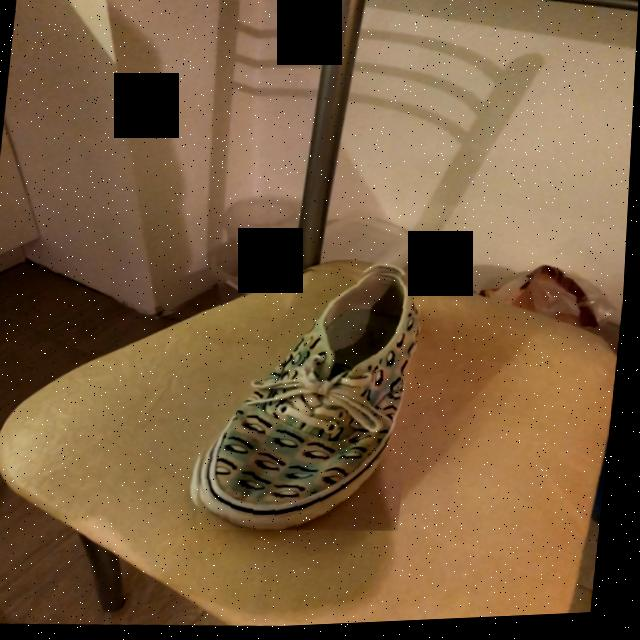shoe: (201, 274, 424, 533)
